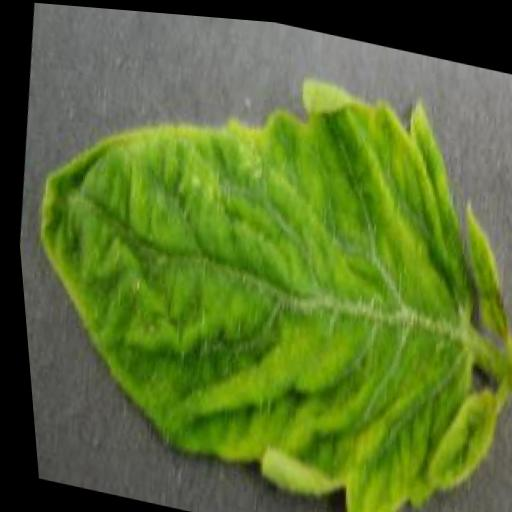Yellow Leaf Curl Virus: (1, 18, 512, 512)
